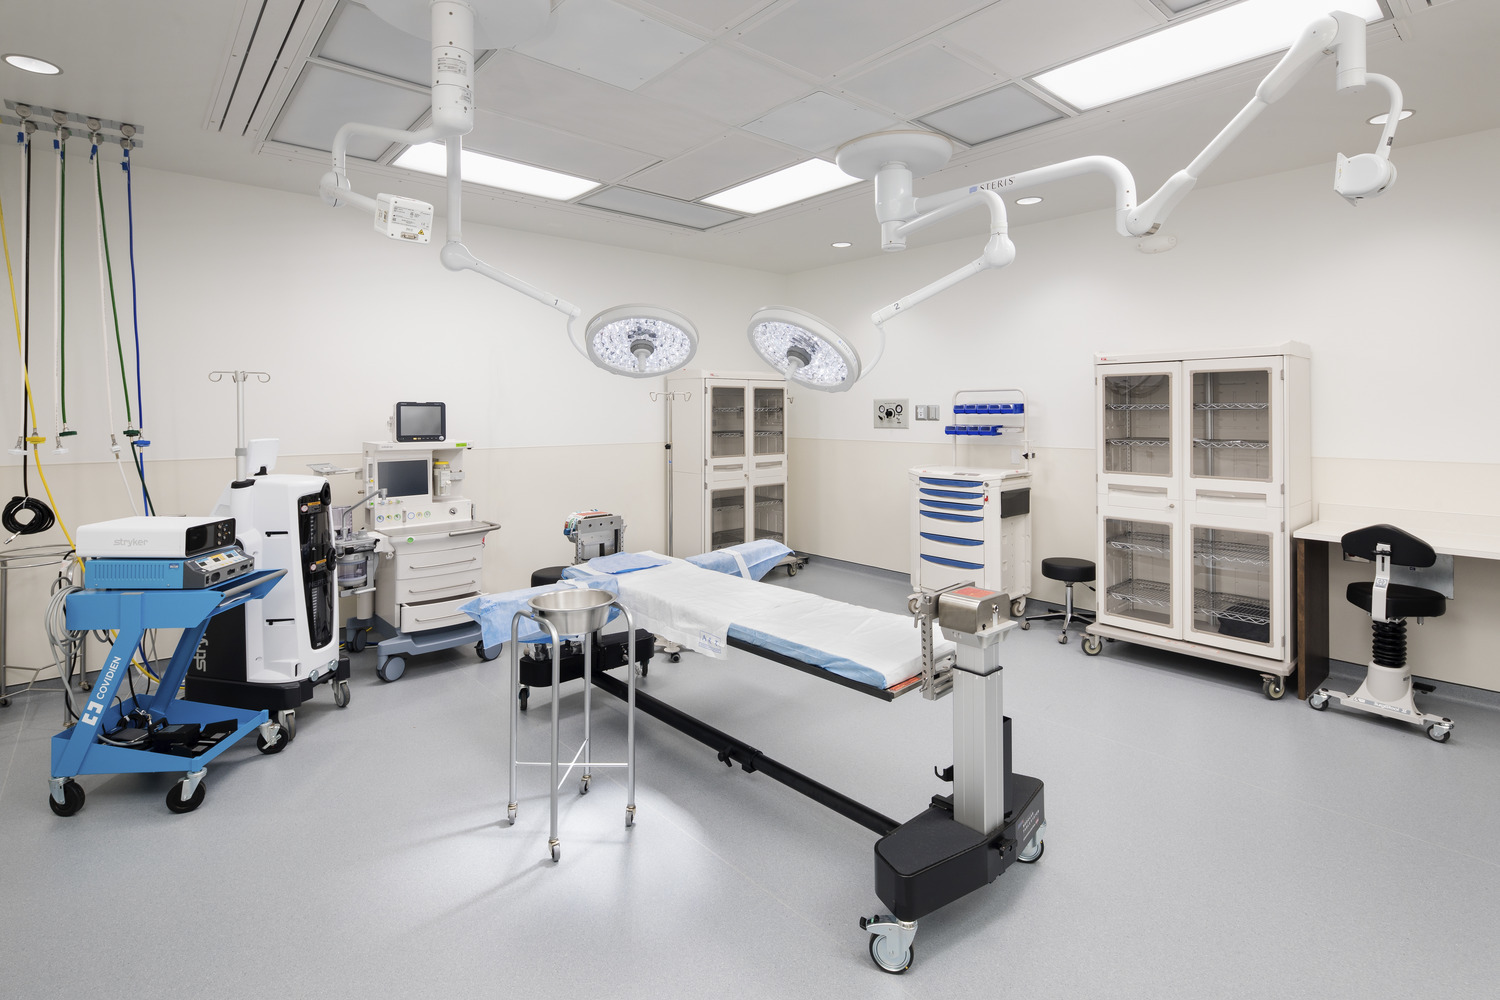bedside_monitor: (388, 400, 448, 443)
cabinet: (1097, 353, 1296, 691), (669, 371, 809, 562)
chair: (1323, 513, 1469, 758), (1023, 557, 1095, 645)
electrosurgical_unit: (76, 545, 259, 589)
handle: (1307, 346, 1405, 444), (410, 581, 478, 596), (411, 559, 478, 573), (415, 612, 474, 623)
iv_pole: (645, 384, 693, 551), (206, 368, 272, 477)
medical_drawer: (907, 462, 1031, 617)
medical_waste_container: (504, 589, 641, 873)
operating_bed: (464, 508, 1045, 974)
surgical_light: (748, 305, 859, 393), (583, 302, 698, 377)
table: (1286, 512, 1499, 705)
